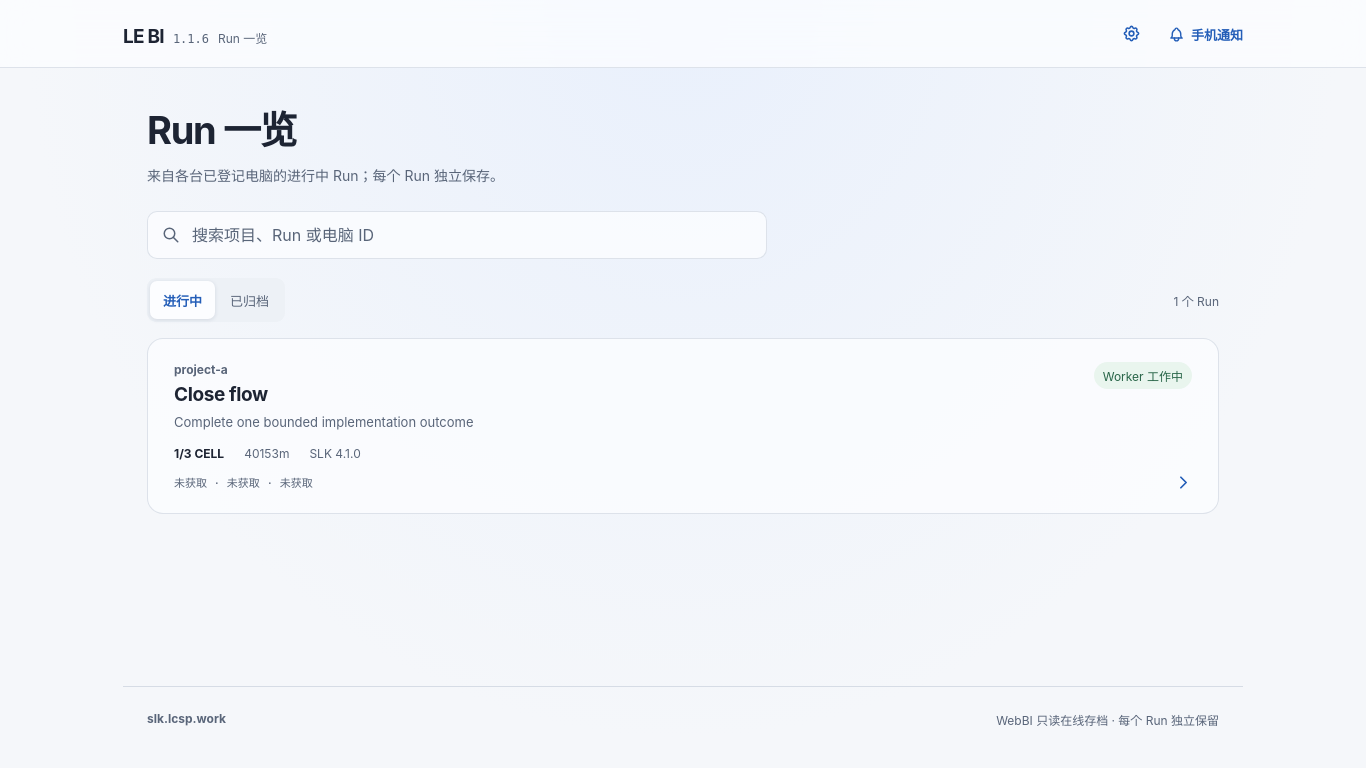
WebBI 1.1 browser UI › starts with 进行中, has no 全部 filter, and opens an isolated Run detail
The image size is (1366, 768).
expect the heading "Run 一览" is shown: met, box [147,107,296,153]
expect the slider labelled "背景透明度" is not shown: met
Click the button named "设置": (1132, 33) [1113,14,1151,52]
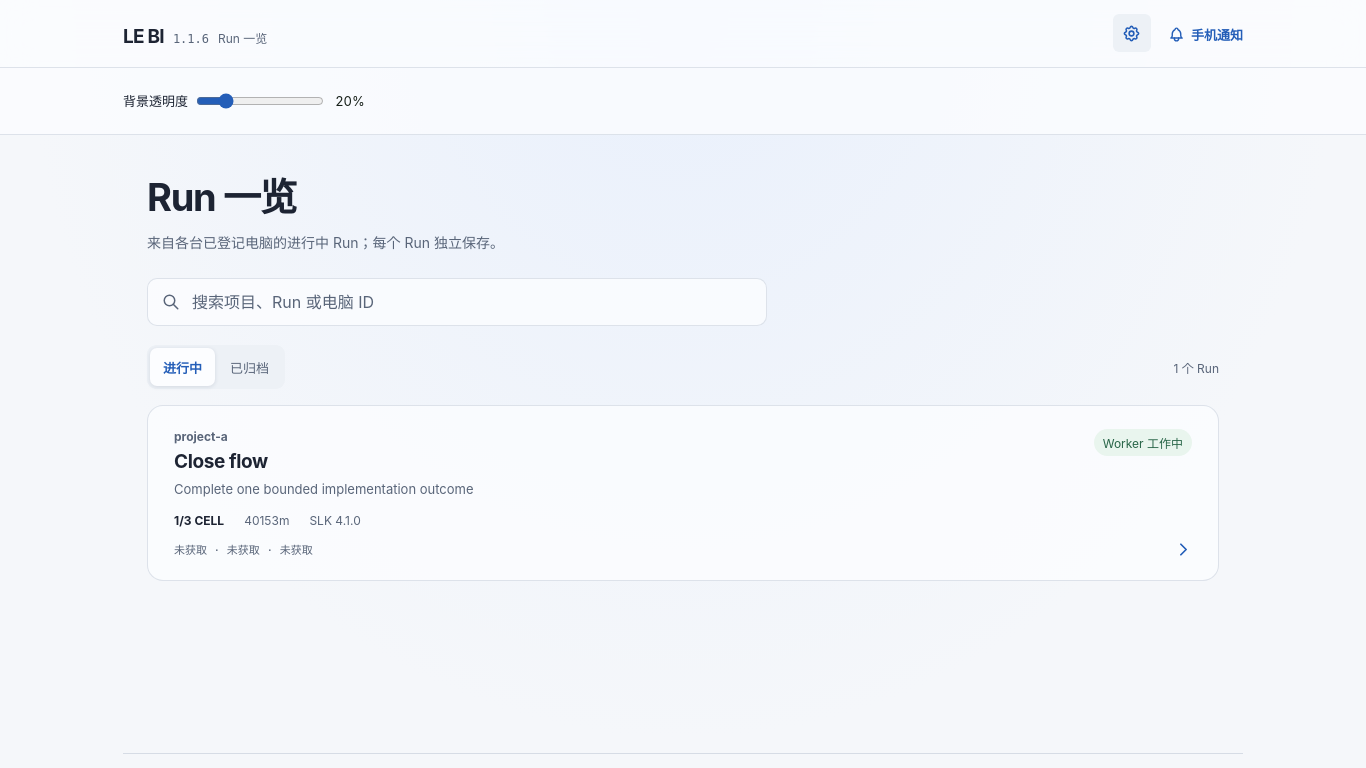
expect the slider labelled "背景透明度" is shown: met
Set the slider labelled "背景透明度" to "100": (316, 101) [196,82,324,120]
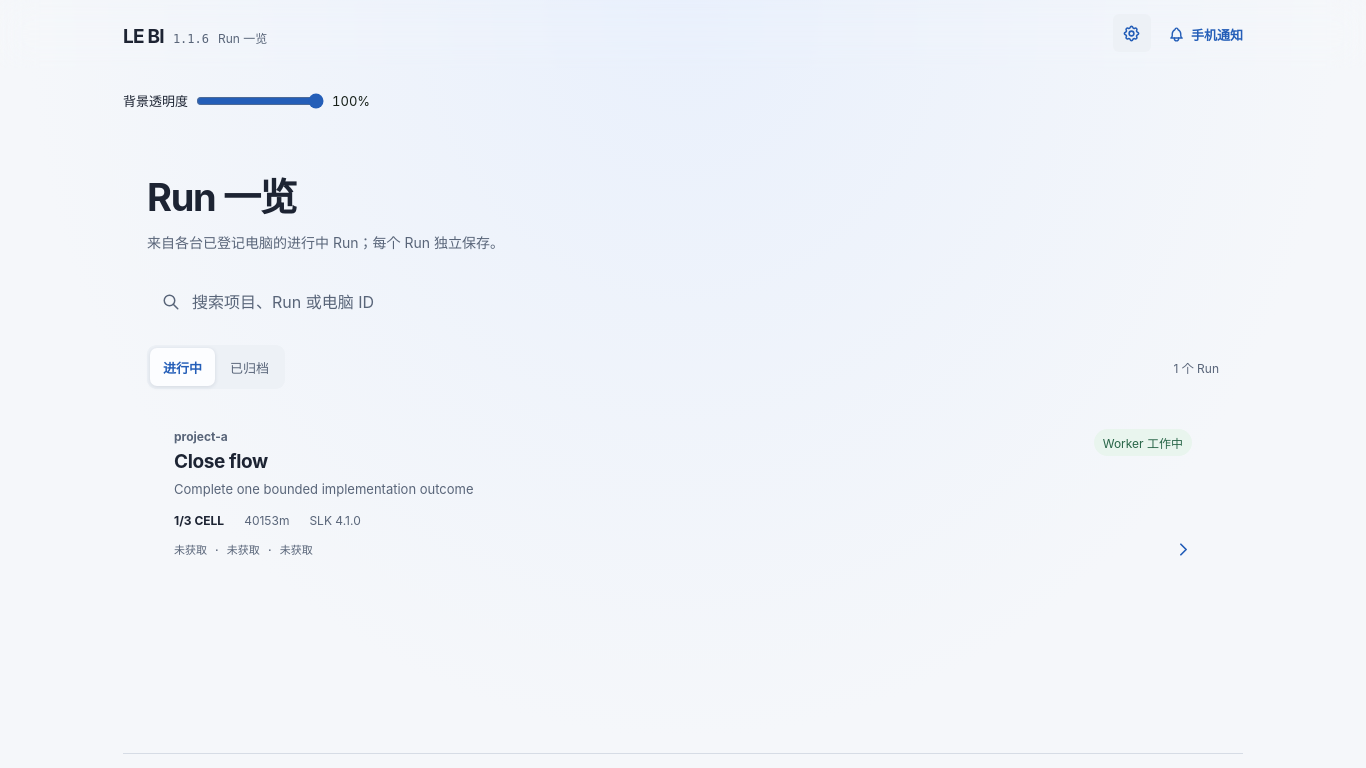
Click the button named "设置": (1132, 33) [1113,14,1151,52]
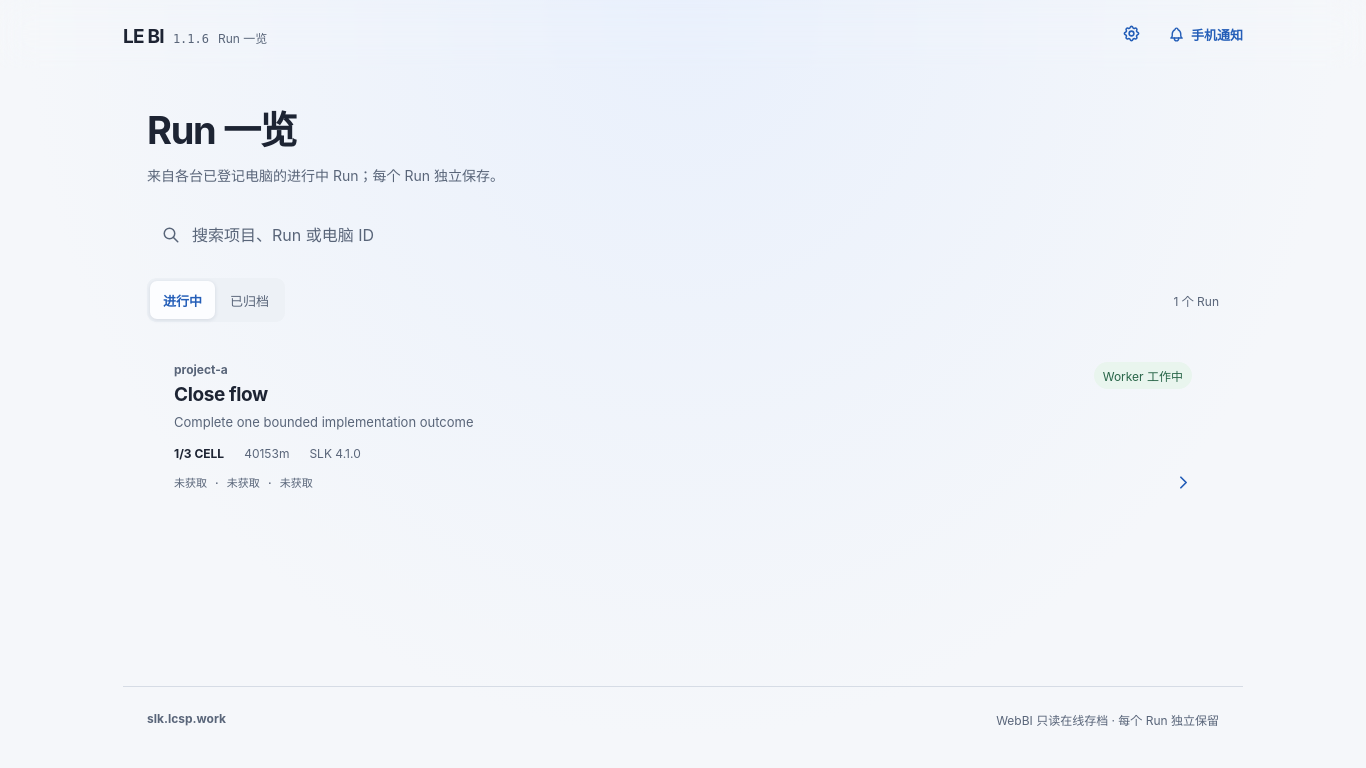
expect the text "背景透明度" is gone: met
Click the button named "设置": (1132, 33) [1113,14,1151,52]
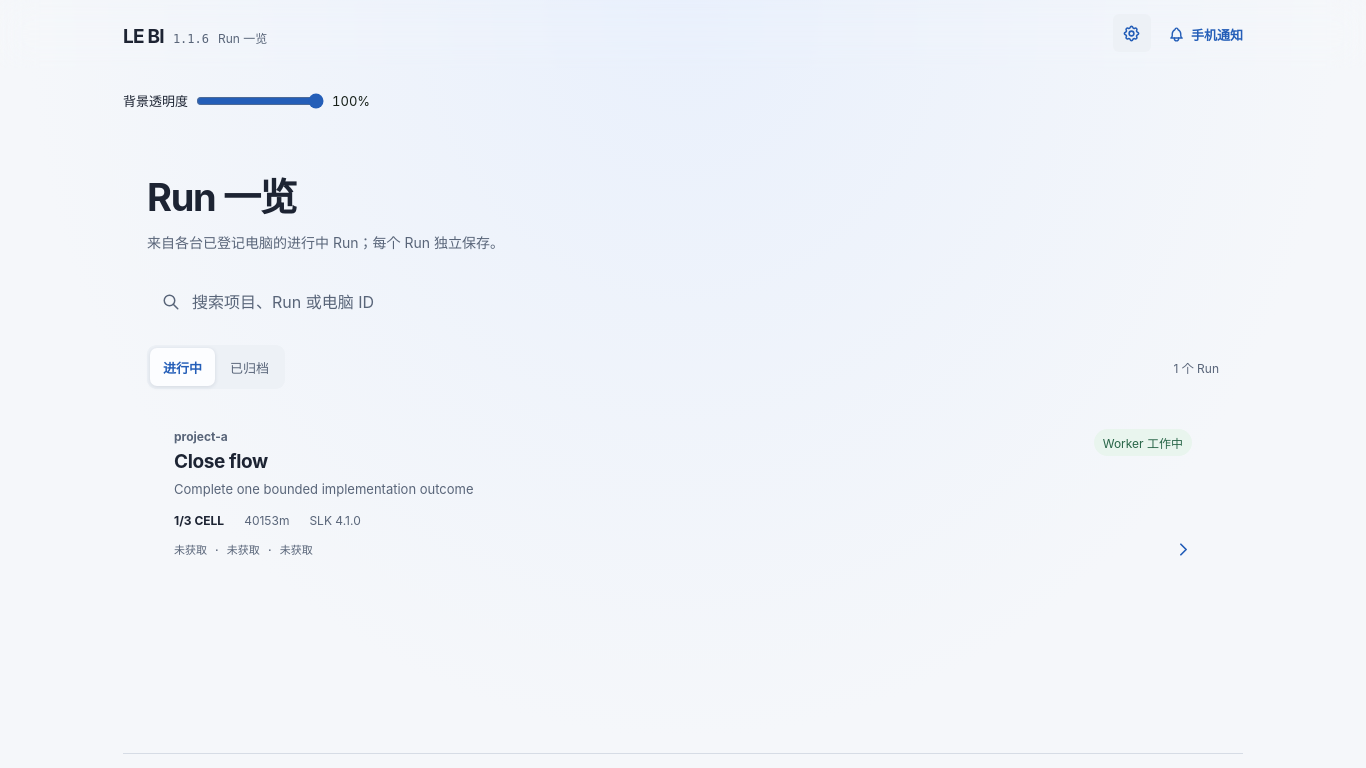
Set the slider labelled "背景透明度" to "37": (245, 101) [196,82,324,120]
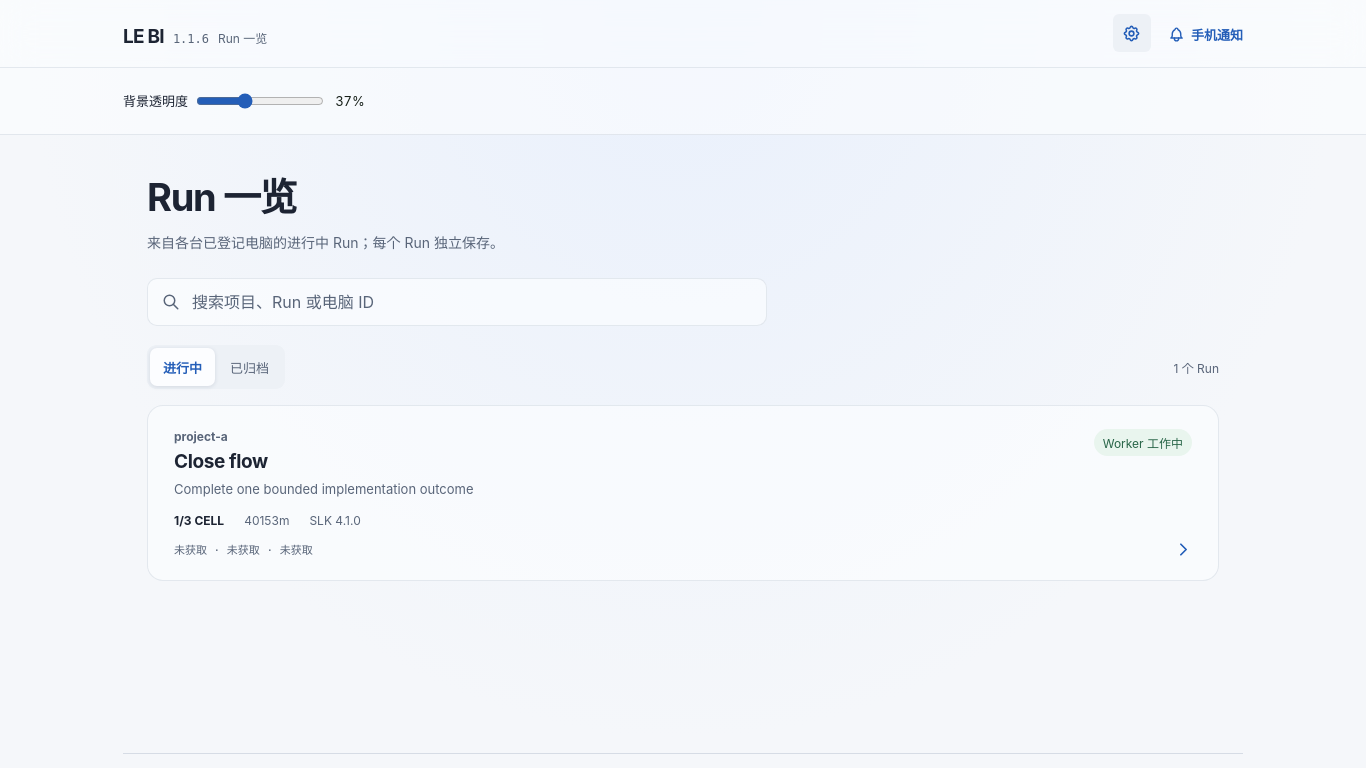
Click the link "Close flow": (683, 493) [148,406,1218,580]
(page scrolled)
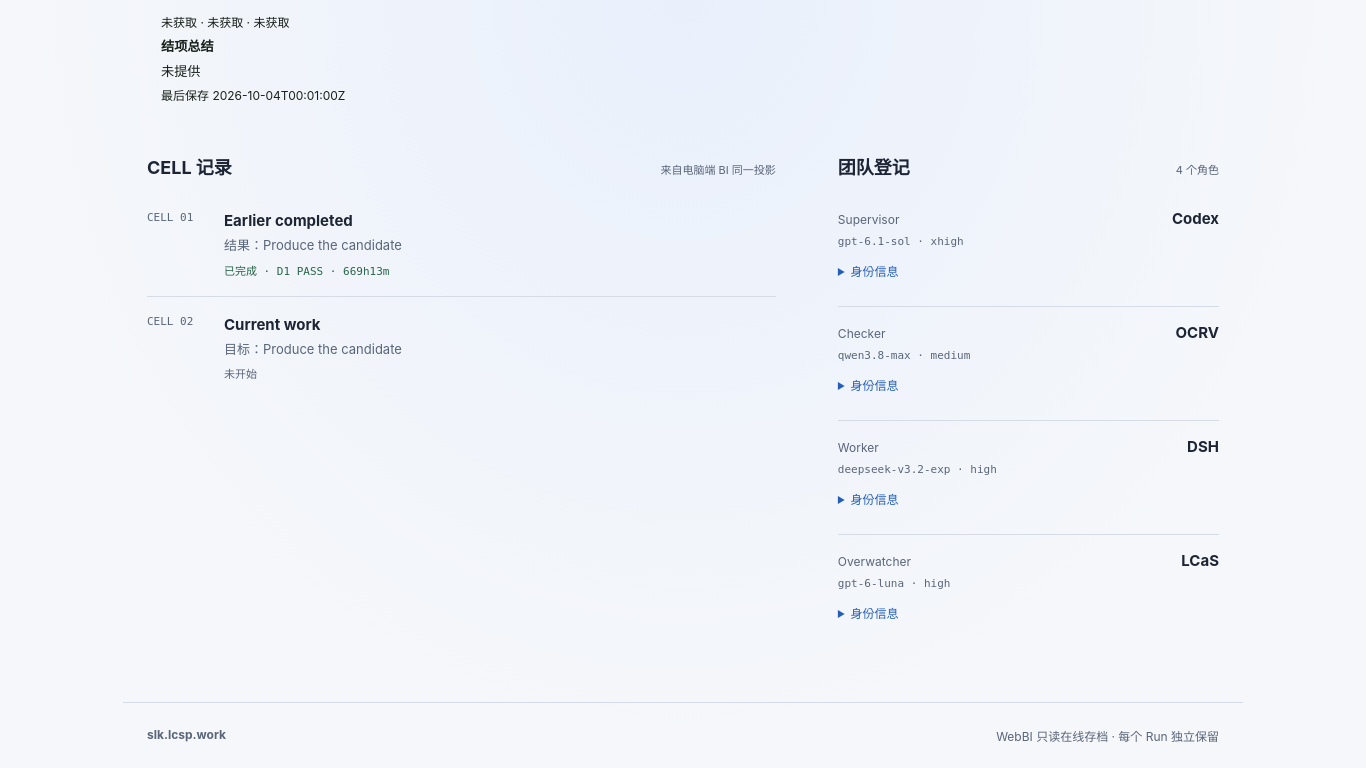
expect the text "Supervisor" is shown: met, box [838,212,899,227]
expect the text "Checker" is shown: met, box [838,326,885,341]
expect the text "Worker" is shown: met, box [838,440,879,455]
